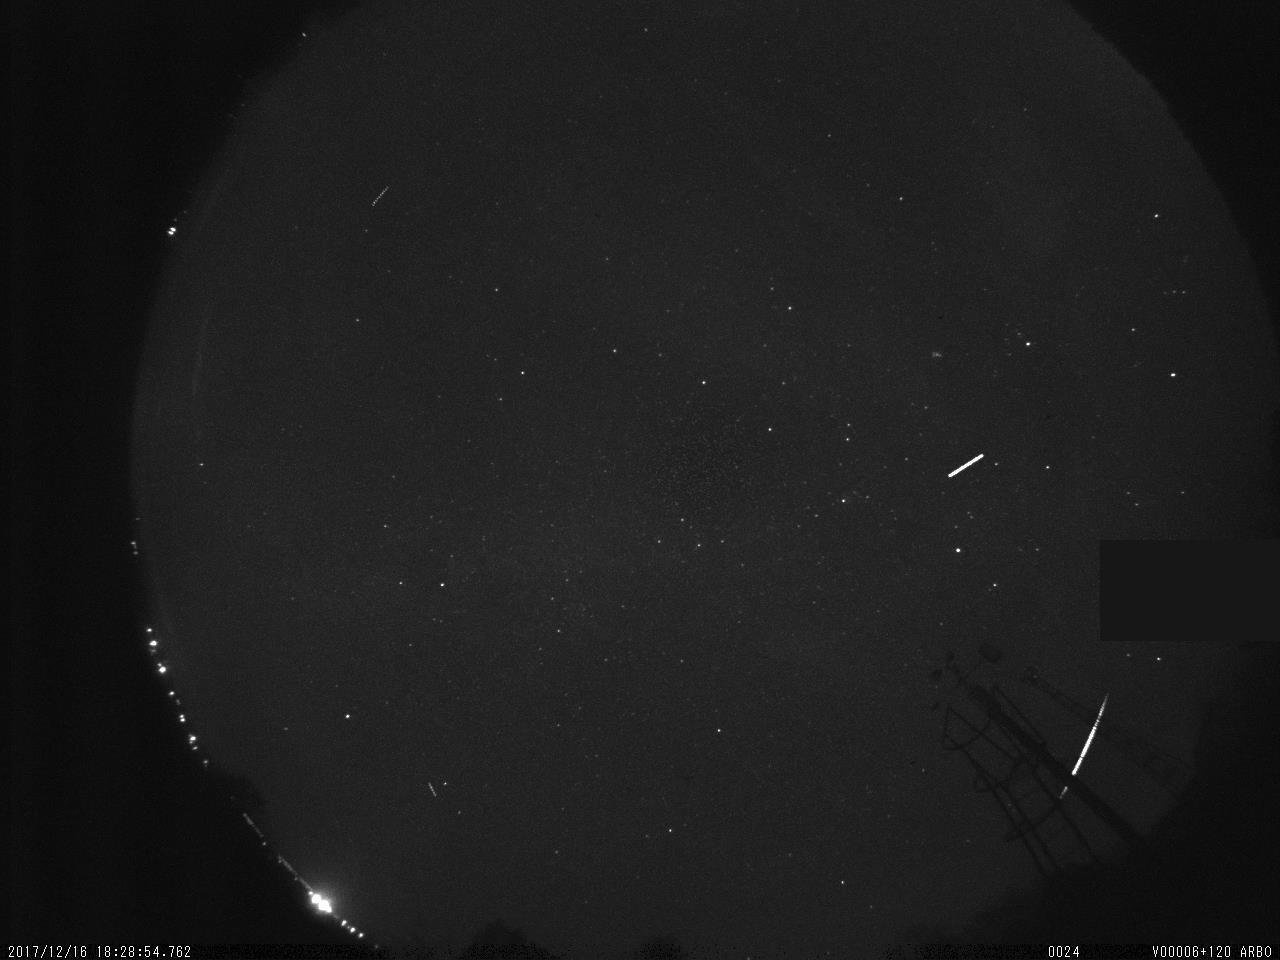meteor: (1055, 688, 1118, 804)
satelite: (940, 449, 990, 484), (366, 178, 393, 212)
